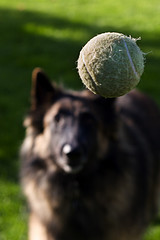tennis ball: (77, 30, 146, 98)
